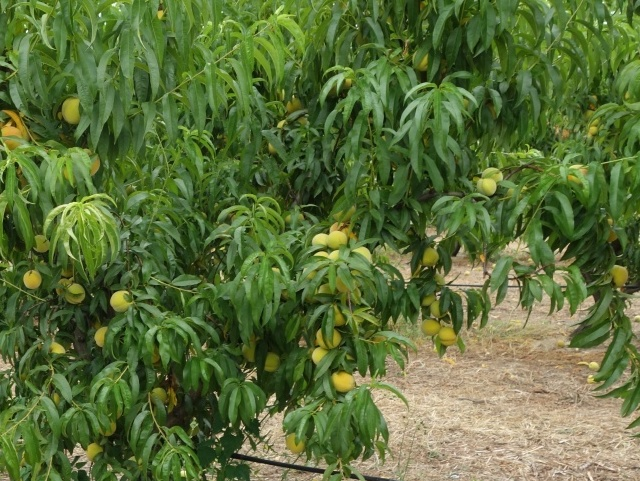peach: (56, 95, 89, 128), (328, 367, 358, 399), (313, 322, 344, 349), (281, 430, 311, 456), (106, 286, 134, 313), (606, 262, 632, 291), (258, 350, 284, 376), (417, 314, 443, 340), (325, 227, 350, 254), (436, 324, 461, 351), (416, 244, 441, 270), (21, 267, 45, 294), (309, 343, 334, 368), (64, 283, 90, 307), (307, 229, 333, 252), (473, 175, 499, 198), (239, 340, 262, 365), (479, 164, 506, 185), (412, 287, 435, 311), (147, 385, 170, 408), (91, 324, 112, 349), (30, 233, 52, 256), (85, 440, 106, 462), (52, 277, 74, 298), (428, 297, 448, 317)
